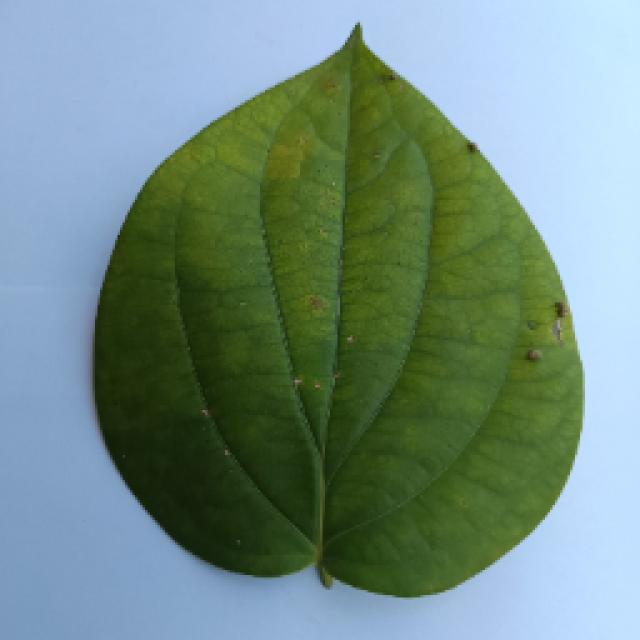slow-decline: (60, 40, 590, 608)
